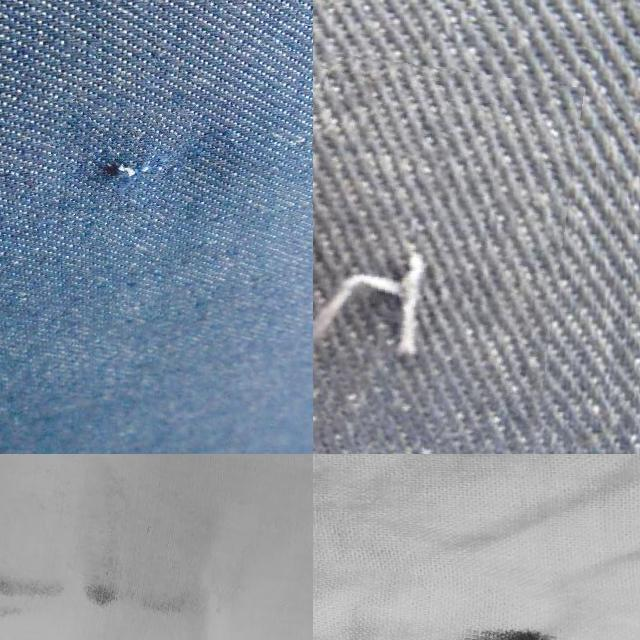Thread_other: (0, 454, 313, 640), (313, 570, 600, 640)
stains: (313, 32, 566, 454), (50, 102, 186, 254)
